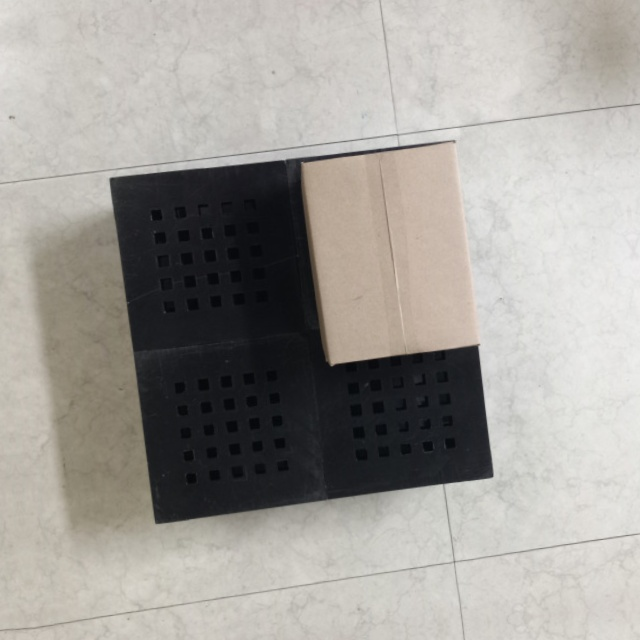box: (298, 137, 483, 369)
pallet: (102, 138, 495, 544)
